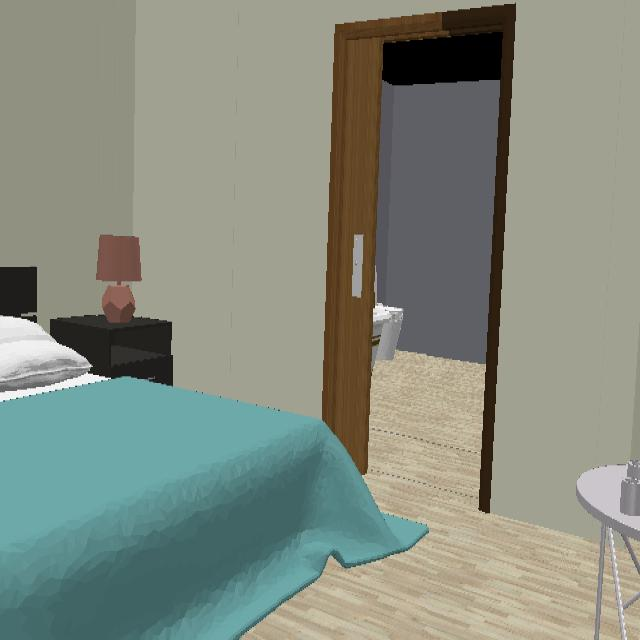bed: (0, 268, 427, 637)
lamp: (96, 235, 141, 323)
nighttable: (50, 315, 172, 385)
table: (576, 465, 640, 640)
toilet: (371, 272, 404, 368)
